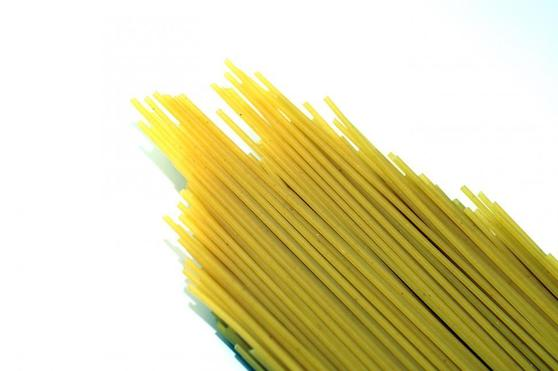spaghetti: (139, 55, 551, 371)
